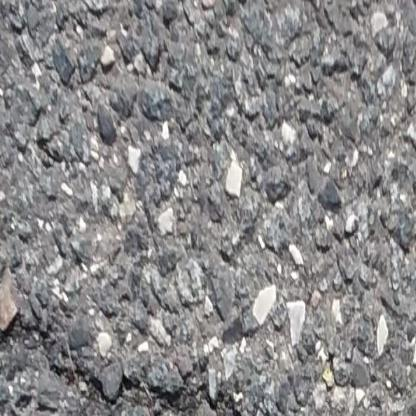Cracks: (0, 308, 254, 416)
